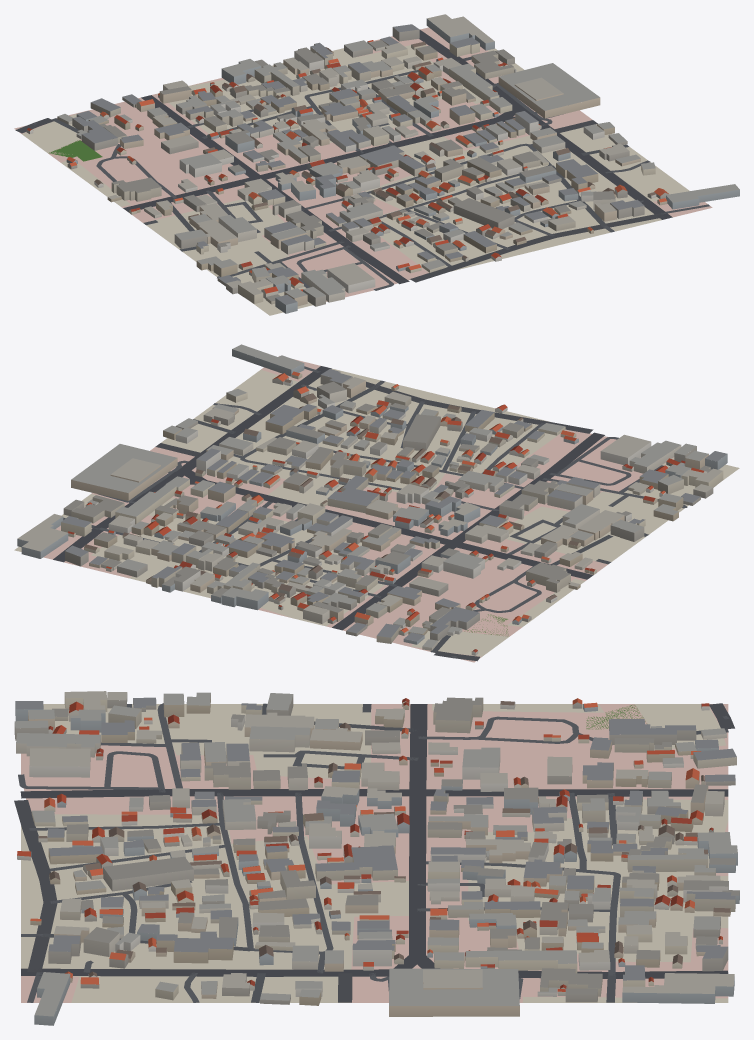
3 renders of one model, top to bottom at view 1: azimuth 30°, elevation 25°; view 2: azimuth 150°, elevation 25°; view 3: azimuth 270°, elevation 25°, orthographic. The views are drawn at different scales.
Parts seen in each view (by area): view 1: buildings_roofs, buildings_walls, landuse, roads; view 2: buildings_roofs, buildings_walls, landuse, roads; view 3: buildings_roofs, landuse, buildings_walls, roads.
Part boxes in pixels (x1=…): buildings_roofs: x1=27, y1=14, x2=739, y2=304; buildings_walls: x1=26, y1=18, x2=739, y2=313; landuse: x1=14, y1=27, x2=712, y2=315; roads: x1=15, y1=30, x2=709, y2=290; buildings_roofs: x1=17, y1=344, x2=727, y2=652; buildings_walls: x1=17, y1=349, x2=727, y2=655; landuse: x1=14, y1=356, x2=739, y2=662; roads: x1=53, y1=366, x2=687, y2=661; buildings_roofs: x1=14, y1=691, x2=739, y2=1016; landuse: x1=21, y1=704, x2=728, y2=1002; buildings_walls: x1=14, y1=693, x2=739, y2=1025; roads: x1=14, y1=703, x2=734, y2=1002.
Bounding box in the file's own units: 545 × 12.78 × 513.
